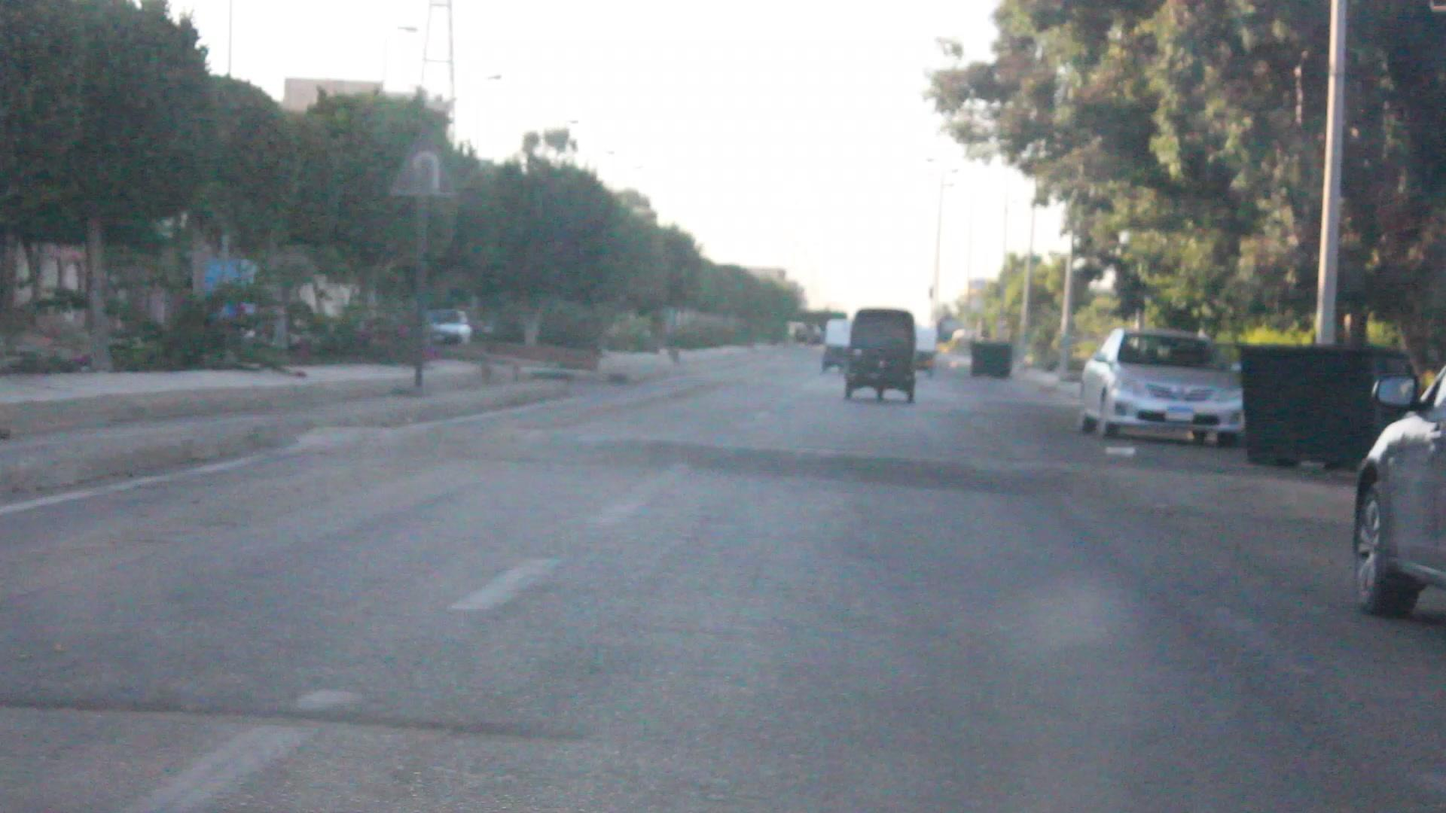Bump: (294, 426, 1358, 521)
